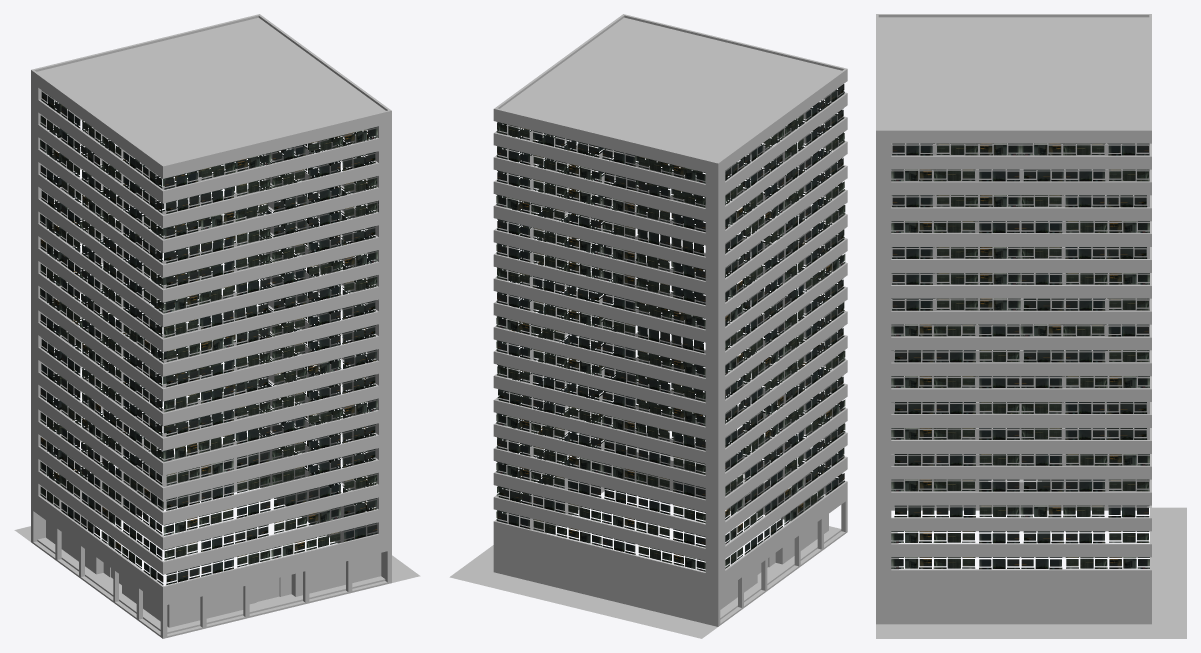
3 views of the same model, side by side, from view 1: azimuth 30°, elevation 25°; view 2: azimuth 150°, elevation 25°; view 3: azimuth 270°, elevation 25° (orthographic). The views are drawn at different scales.
Parts seen in each view (by area): view 1: EC-007; view 2: EC-007; view 3: EC-007.
Part boxes in pixels (x1,y1,x2,y2): EC-007: [14, 14, 420, 638]; EC-007: [449, 14, 847, 638]; EC-007: [876, 14, 1186, 638].
Size of what is drawn, in the model's own units: 36 by 63.09 by 36.
